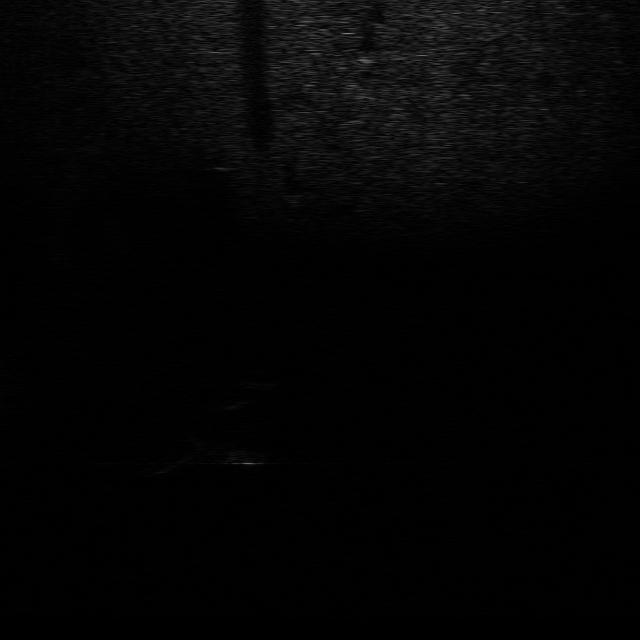ball: (236, 362, 286, 393)
square cage: (146, 434, 218, 474)
tyre: (210, 428, 270, 473)
